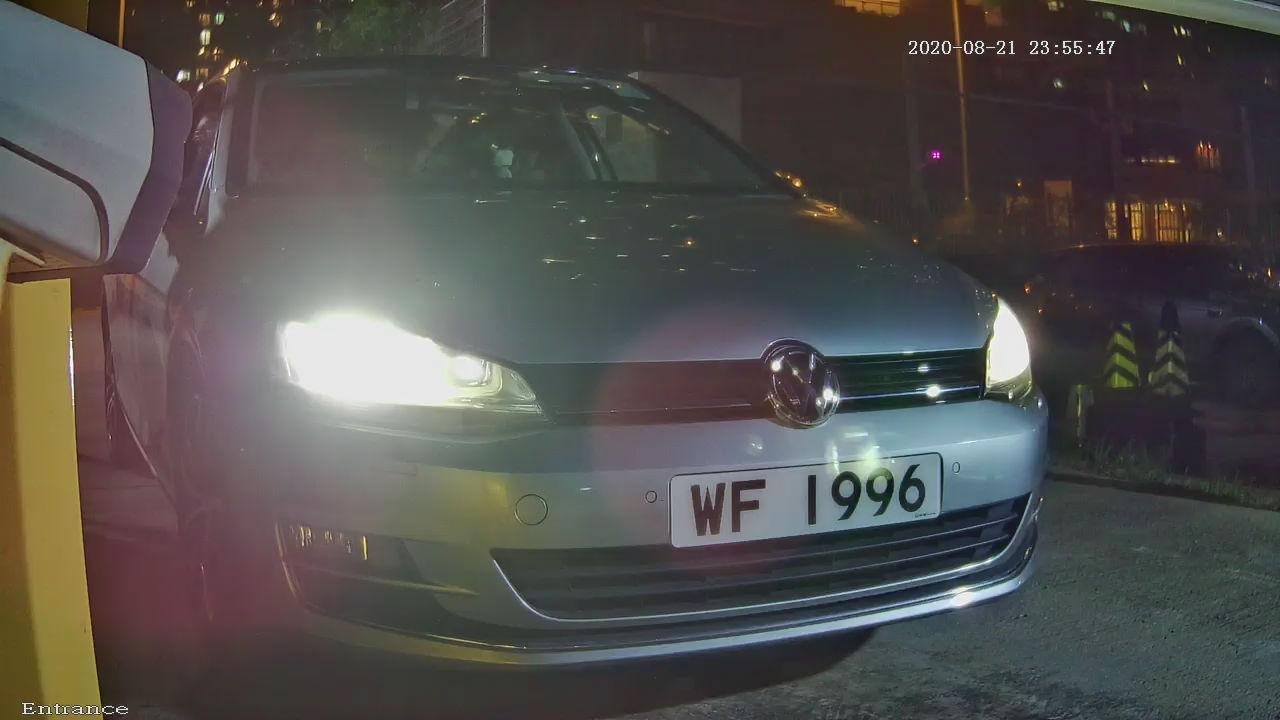Car: (12, 13, 1183, 714)
License Plate: (652, 438, 961, 553)
